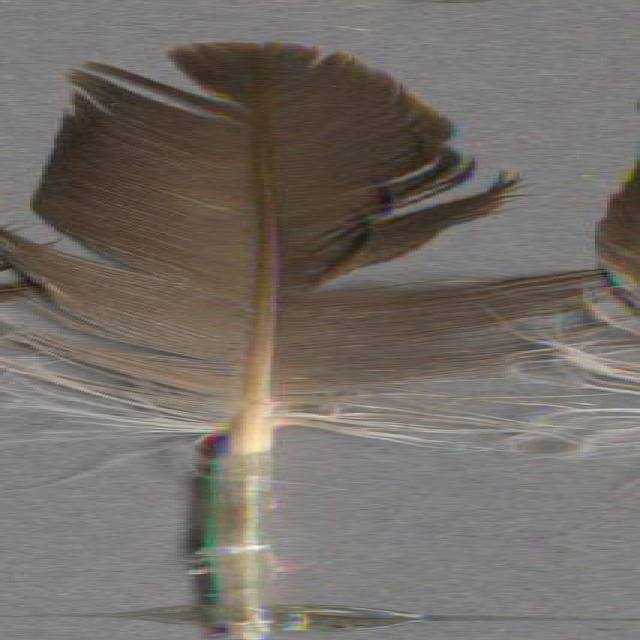feather: (0, 40, 593, 640)
